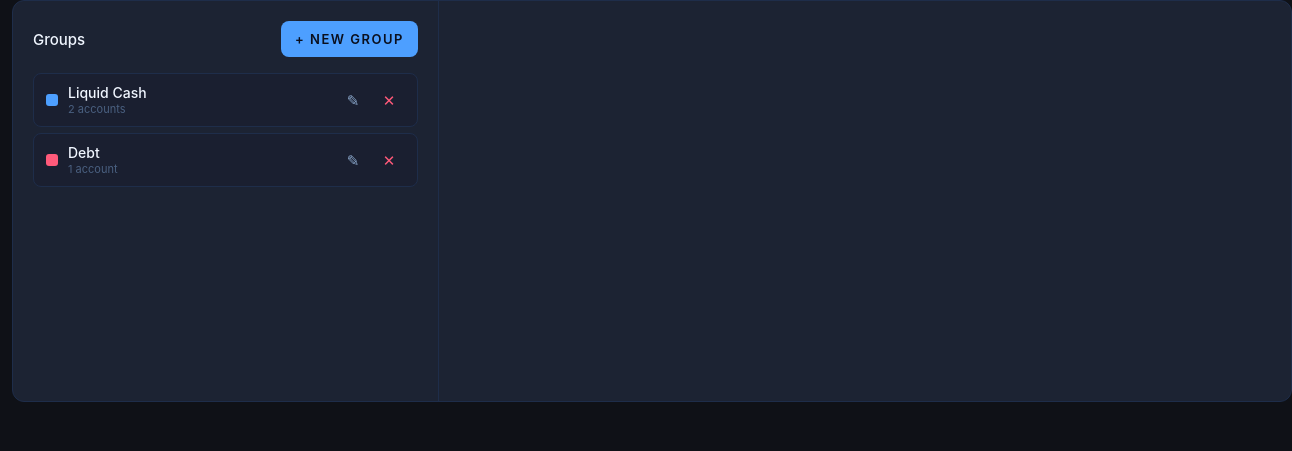
Test case: GroupManager › delete › shows an error message when DELETE fails
The width and height of the screenshot is (1292, 451).
Step 1. Click the button titled "Delete" in the row of "Liquid Cash" → (389, 100), box 373,84 -> 405,116
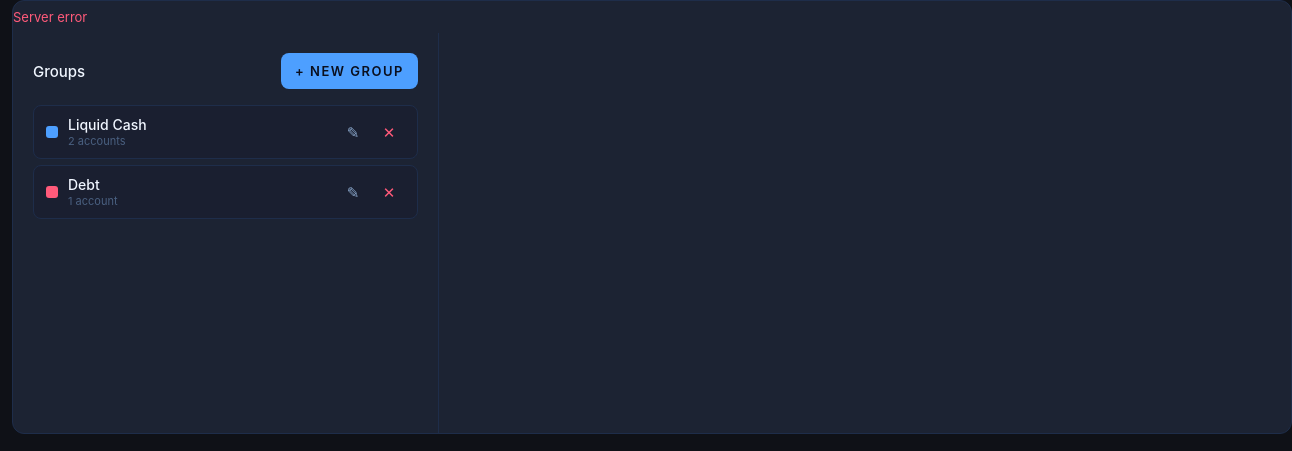
Expected: the text "Server error" is shown, 13,9 -> 87,25
